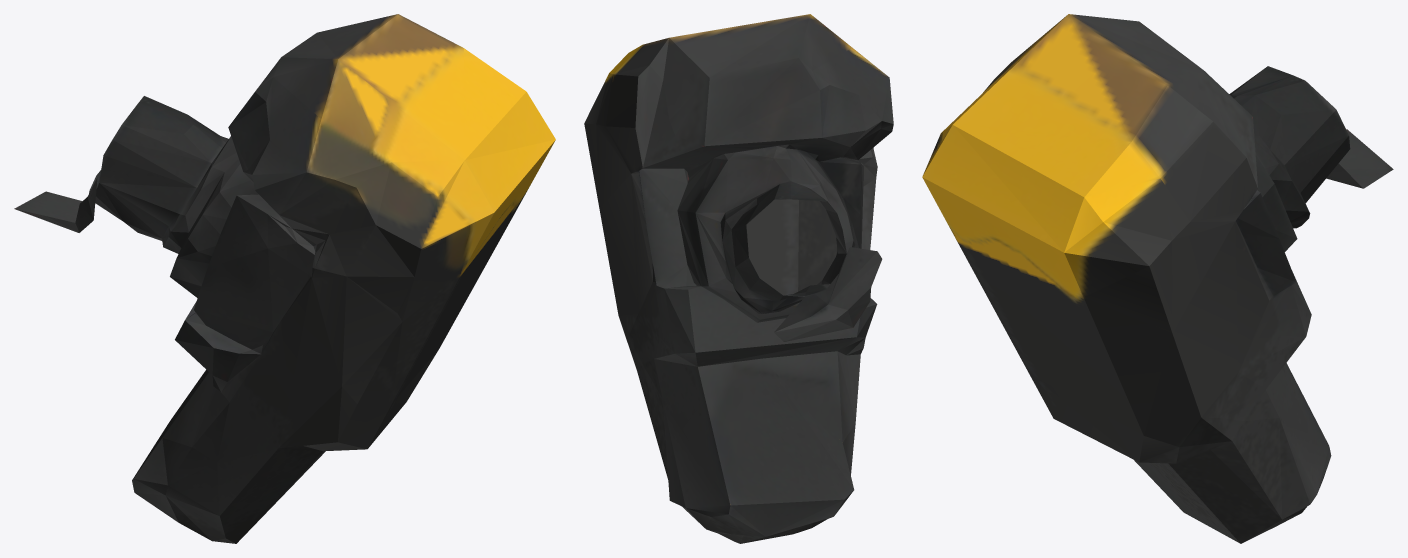
The model's file is SM_KamikazeDebris_Leg_R.fbx.
3 views of the same model, side by side, from view 1: azimuth 30°, elevation 25°; view 2: azimuth 150°, elevation 25°; view 3: azimuth 270°, elevation 25° (orthographic). The views are drawn at different scales.
Parts seen in each view (by area): view 1: SM_KamikazeDebris_Leg_R; view 2: SM_KamikazeDebris_Leg_R; view 3: SM_KamikazeDebris_Leg_R.
Boxes of the visible parts, <box> form: SM_KamikazeDebris_Leg_R: <box>14,14,555,543</box>; SM_KamikazeDebris_Leg_R: <box>584,14,893,543</box>; SM_KamikazeDebris_Leg_R: <box>922,14,1393,543</box>.
Size of the model in its own units: 49.16 by 60.66 by 49.46.
Materials: 1 (1 with a texture image).
